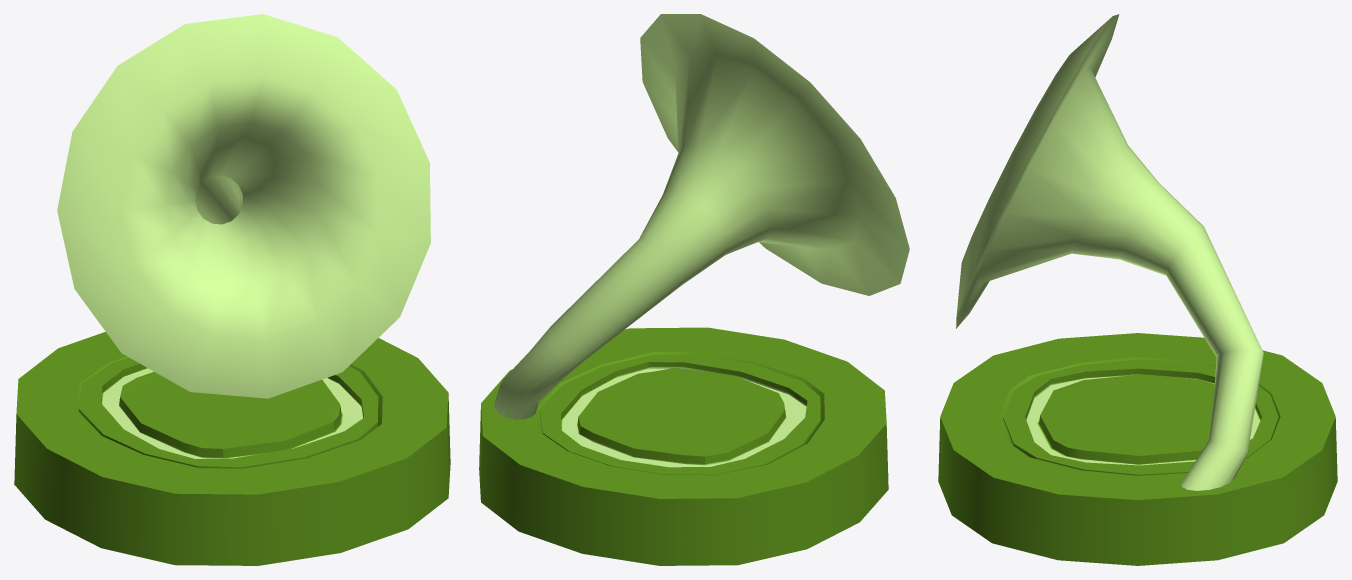
The model's file is Air.fbx.
3 views of the same model, side by side, from view 1: azimuth 30°, elevation 25°; view 2: azimuth 150°, elevation 25°; view 3: azimuth 270°, elevation 25° (orthographic). The views are drawn at different scales.
Parts seen in each view (by area): view 1: pCylinder1, polySurface1, polySurface2; view 2: pCylinder1, polySurface1, polySurface2; view 3: polySurface1, pCylinder1, polySurface2.
Part boxes in pixels (left/top/right/bottom): pCylinder1: left=57, top=14, right=430, bottom=398; polySurface1: left=14, top=332, right=450, bottom=565; polySurface2: left=78, top=357, right=378, bottom=468; pCylinder1: left=494, top=14, right=909, bottom=419; polySurface1: left=479, top=327, right=888, bottom=565; polySurface2: left=539, top=354, right=820, bottom=475; polySurface1: left=938, top=333, right=1337, bottom=565; pCylinder1: left=956, top=14, right=1263, bottom=490; polySurface2: left=1003, top=359, right=1278, bottom=475.
Bounding box in the file's own units: 9.06 × 10.67 × 8.75.
1 material, 1 textured.
